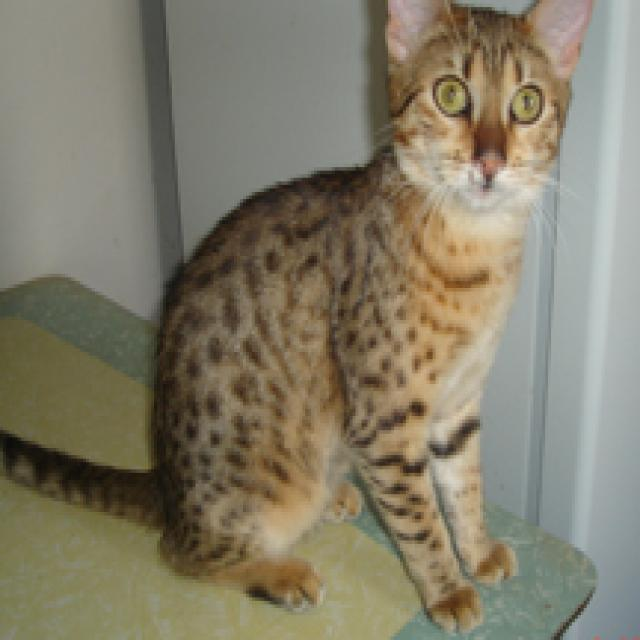Egyptian Mau: (0, 0, 598, 636)
